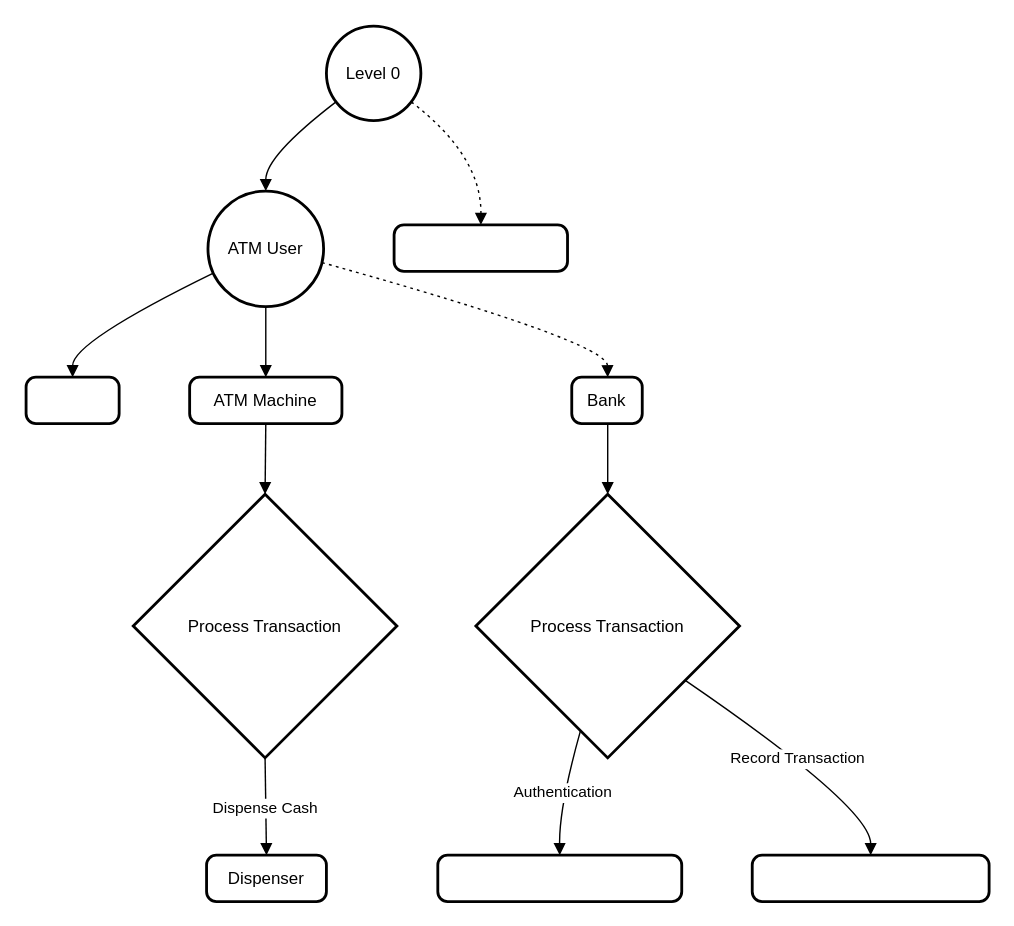
This 1014x926 diagram has some shape labels left out. The box of each missing label's shape, as (x1, y1, x2, y2) in pixels:
Authentication Server: (436, 853, 682, 902)
Bank Customer: (392, 223, 568, 272)
Level 2: (24, 375, 120, 424)
Transaction Database: (750, 853, 990, 902)
